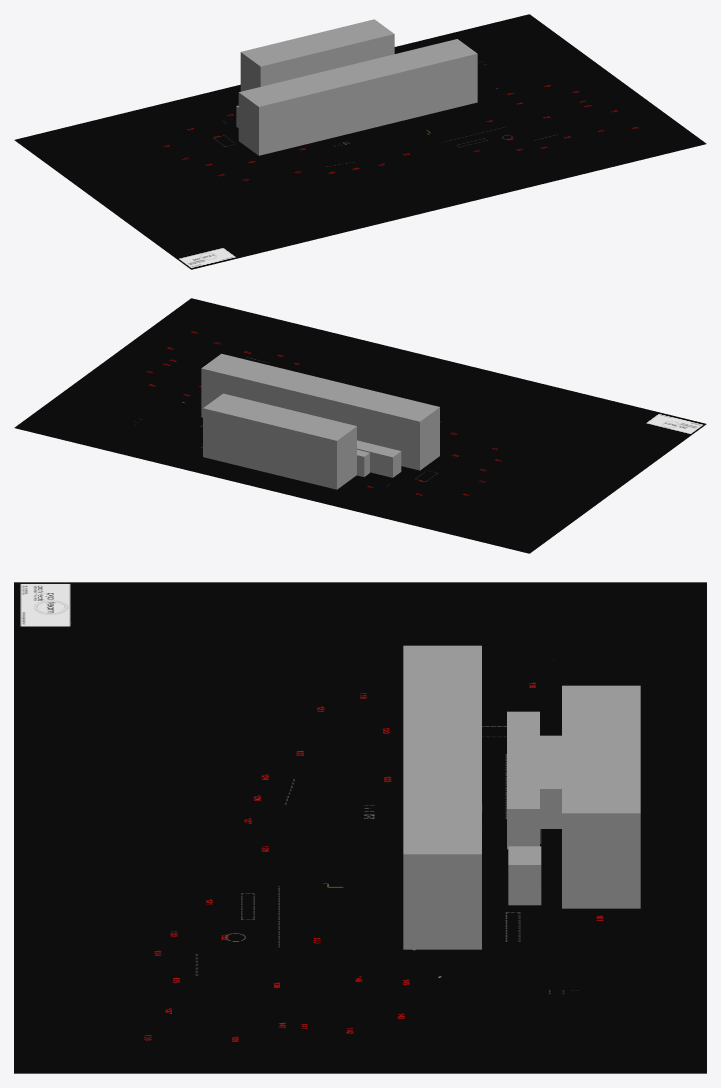
Rendered from BUILD_4FLoor.fbx.
The picture shows the model from 3 angles, top to bottom: view 1: azimuth 30°, elevation 25°; view 2: azimuth 150°, elevation 25°; view 3: azimuth 270°, elevation 25°; orthographic projection. The views are drawn at different scales.
Visible parts, largest first — view 1: pPlane1, pCube2, pCube1; view 2: pPlane1, pCube2, pCube1, pCube4; view 3: pPlane1, pCube2, pCube1, pCube4, pCube5, pCube3.
Boxes of the visible parts, bbox=[...] form: pPlane1: bbox=[14, 14, 706, 269]; pCube2: bbox=[238, 39, 477, 155]; pCube1: bbox=[240, 19, 394, 91]; pPlane1: bbox=[14, 298, 706, 553]; pCube2: bbox=[201, 353, 439, 470]; pCube1: bbox=[203, 393, 356, 489]; pCube4: bbox=[357, 440, 401, 477]; pPlane1: bbox=[14, 582, 706, 1073]; pCube2: bbox=[403, 645, 481, 949]; pCube1: bbox=[562, 685, 640, 908]; pCube4: bbox=[507, 711, 539, 849]; pCube5: bbox=[540, 735, 561, 828]; pCube3: bbox=[508, 846, 541, 905].
Size of the model in its own units: 7192 by 661 by 4286.
